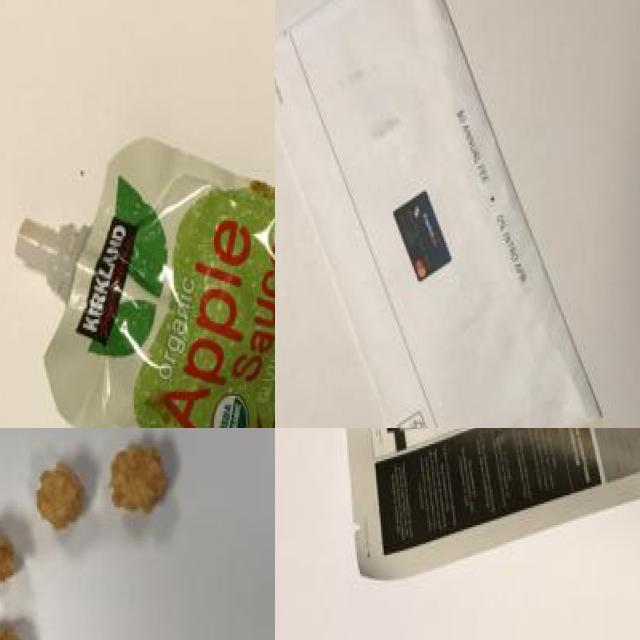compost: (0, 432, 192, 640)
paper: (275, 0, 617, 428), (307, 428, 640, 554)
trash: (17, 101, 275, 428)
